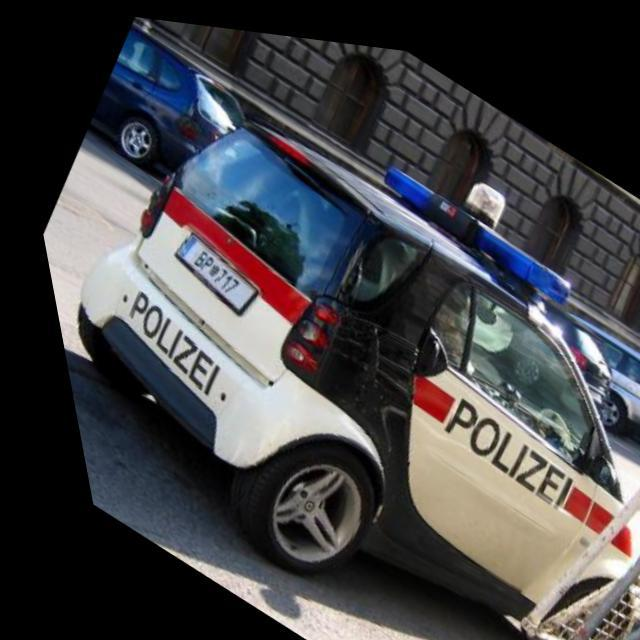license_plate: (151, 222, 263, 320)
